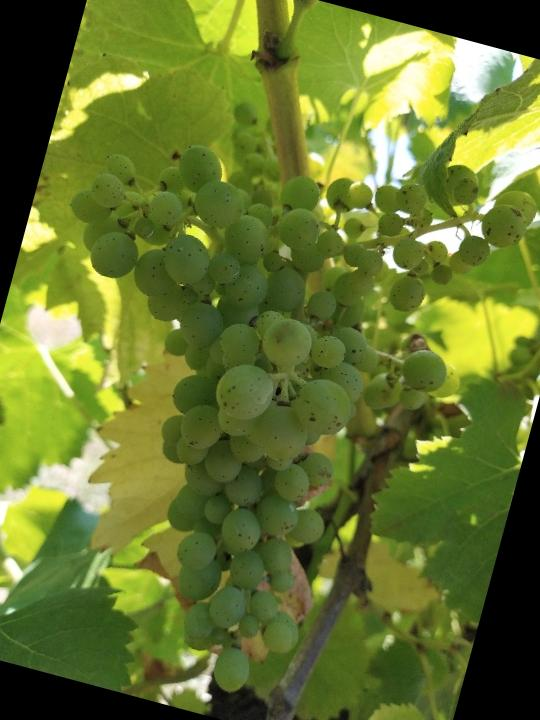grape: (0, 69, 540, 720)
